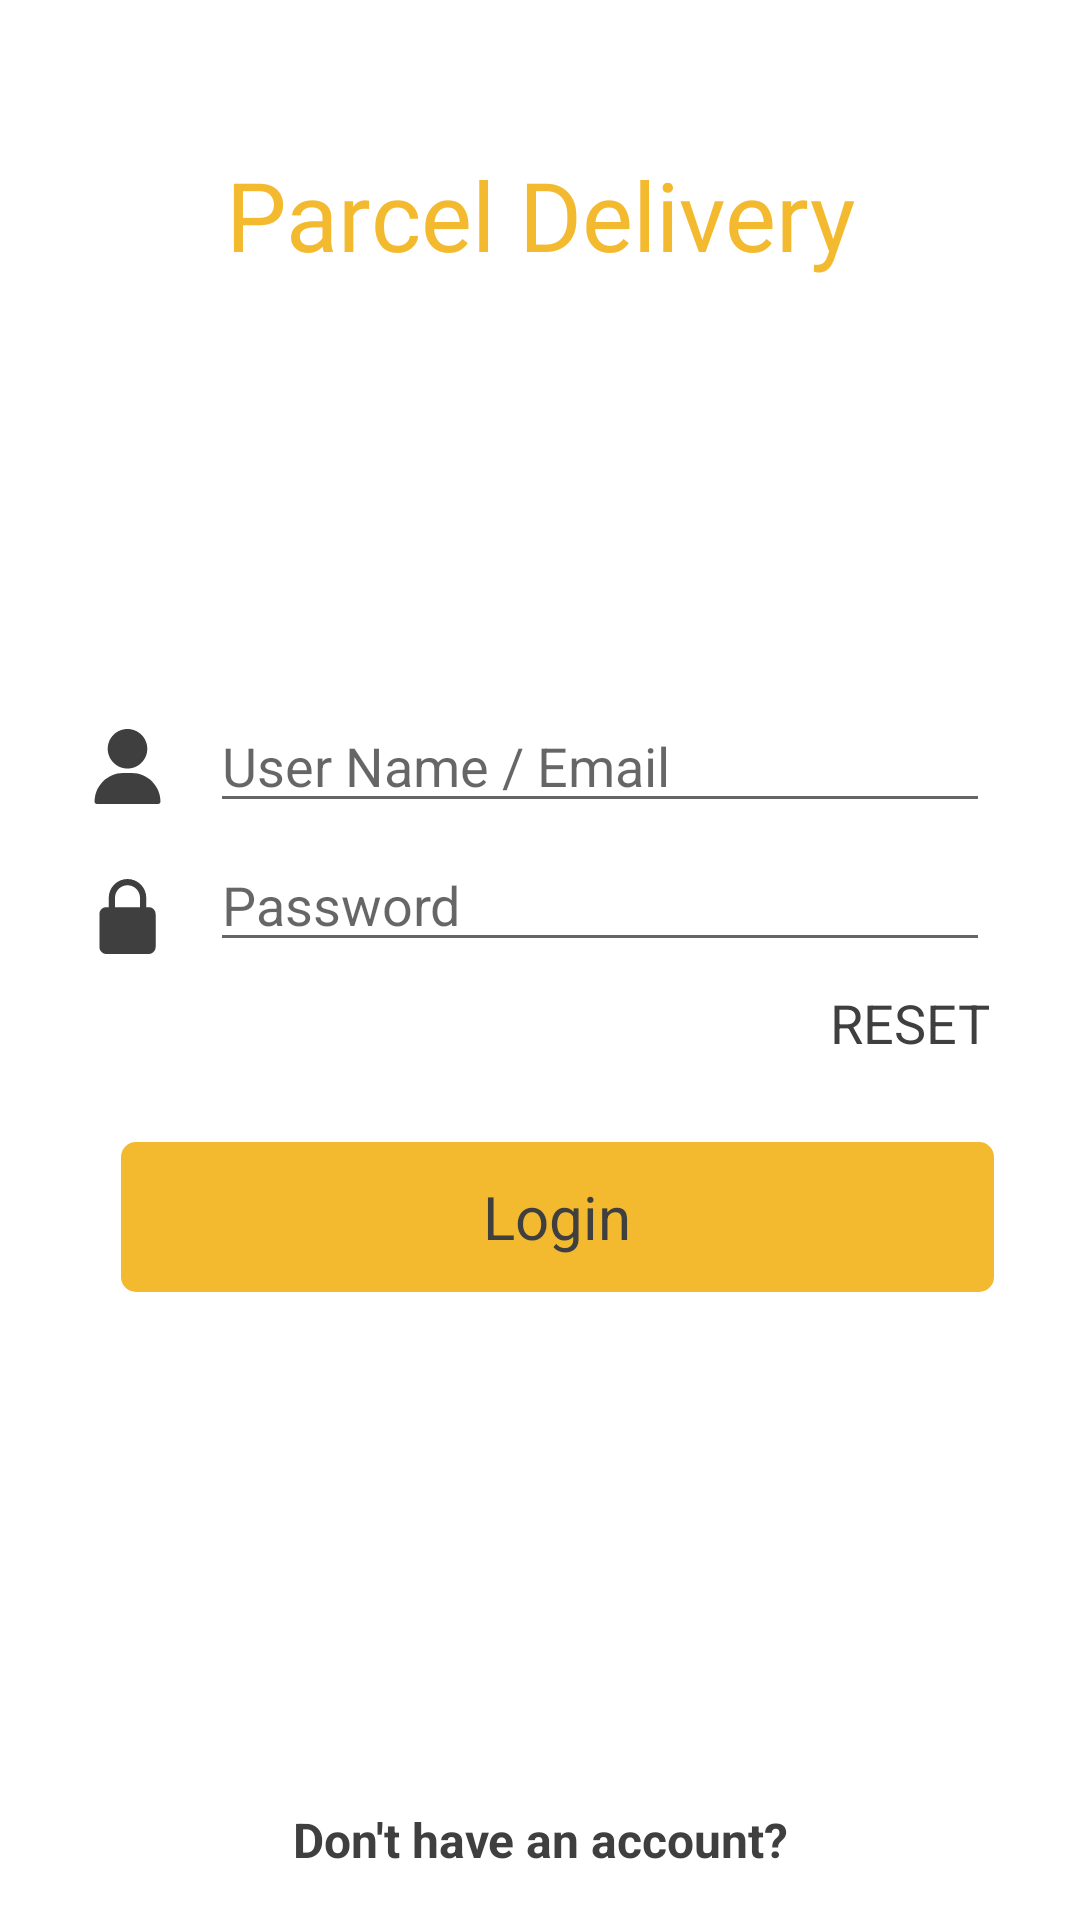

Where icons sit on this 1080w x 1920h app screen, as (x1, y1, x2, y2):
lock: (99, 879, 156, 954)
